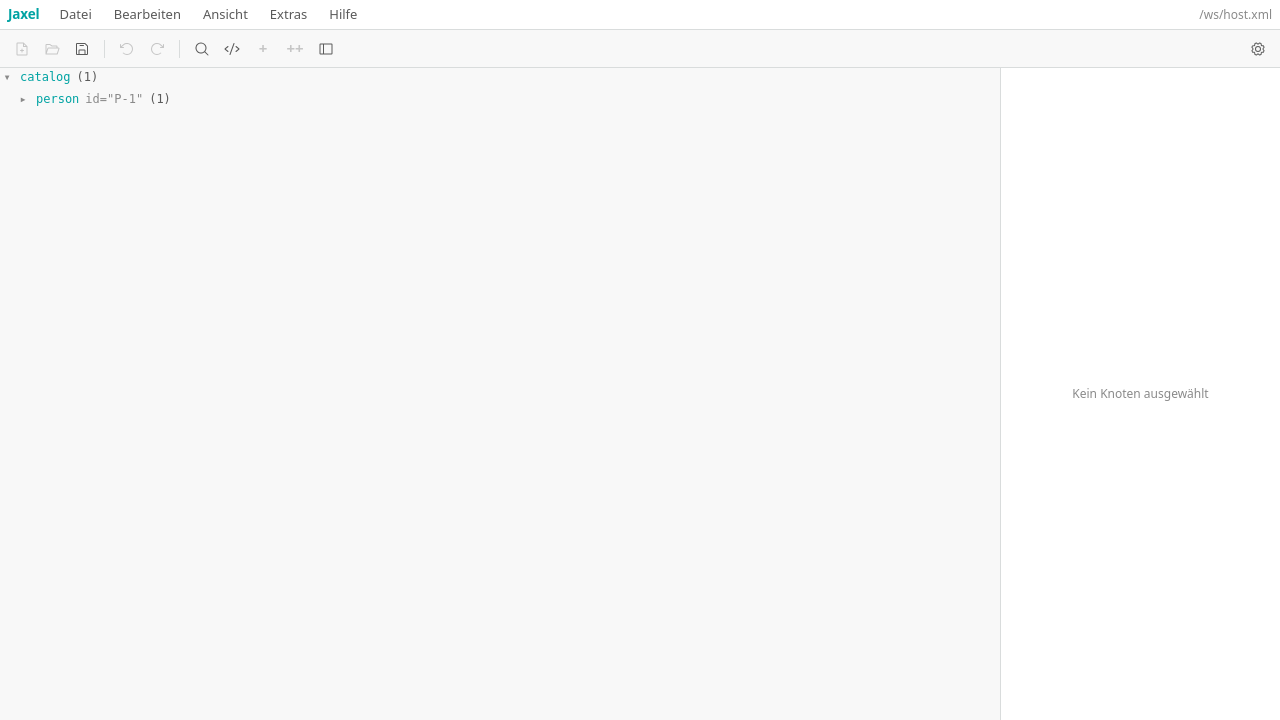
Scenario: VS-Code-Modus: genau ein Dokument › bietet 'Als neuen Tab öffnen' nicht an — ein zweites Dokument ist hier nicht erreichbar
Expected: the text "catalog" is shown, [20,68,71,86]
Click the text "person".
click(58, 99)  # box [36,90,79,108]
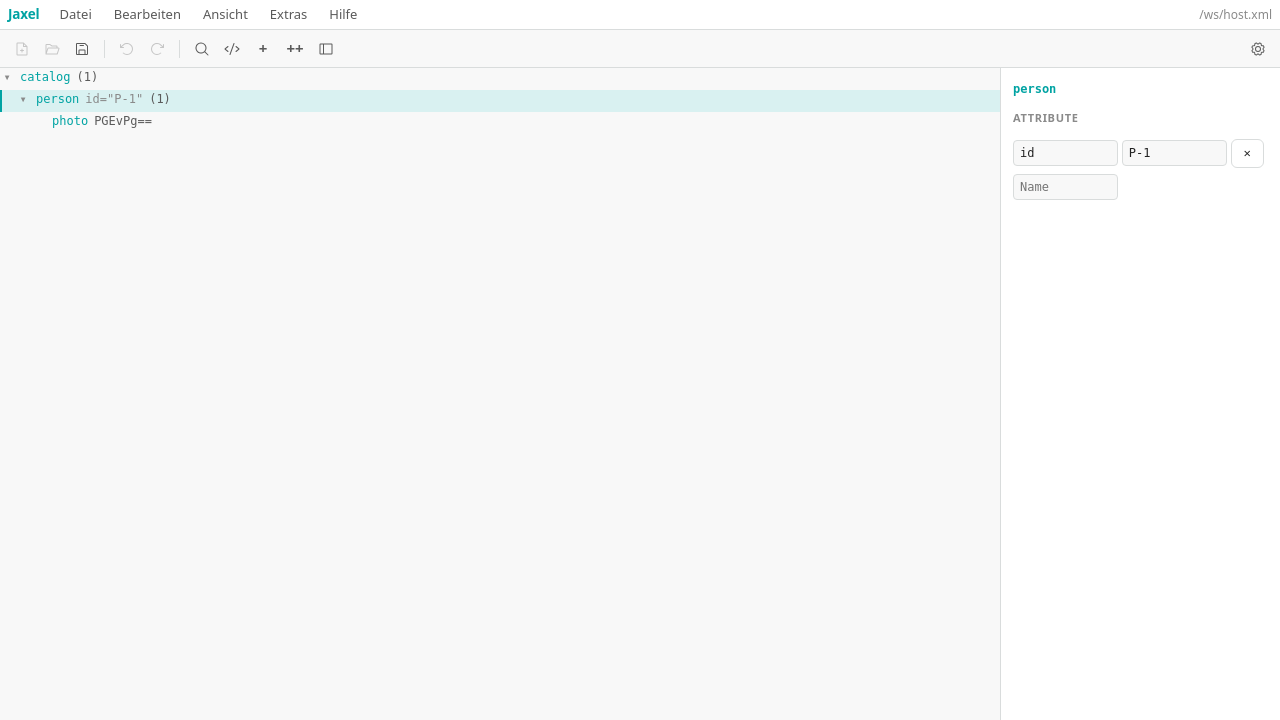
Click the text "photo".
click(102, 121)  # box [52,114,152,128]
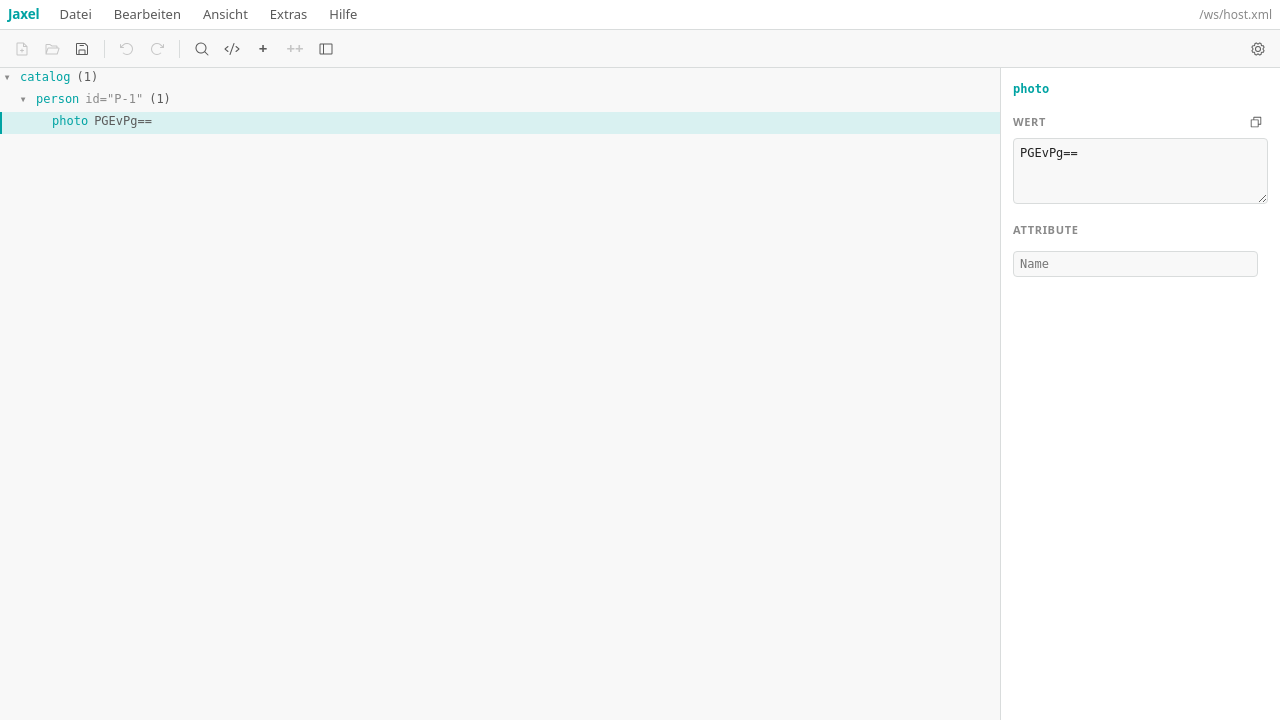
Right-click the text "photo".
right_click(500, 123)  # box [0,112,1000,134]
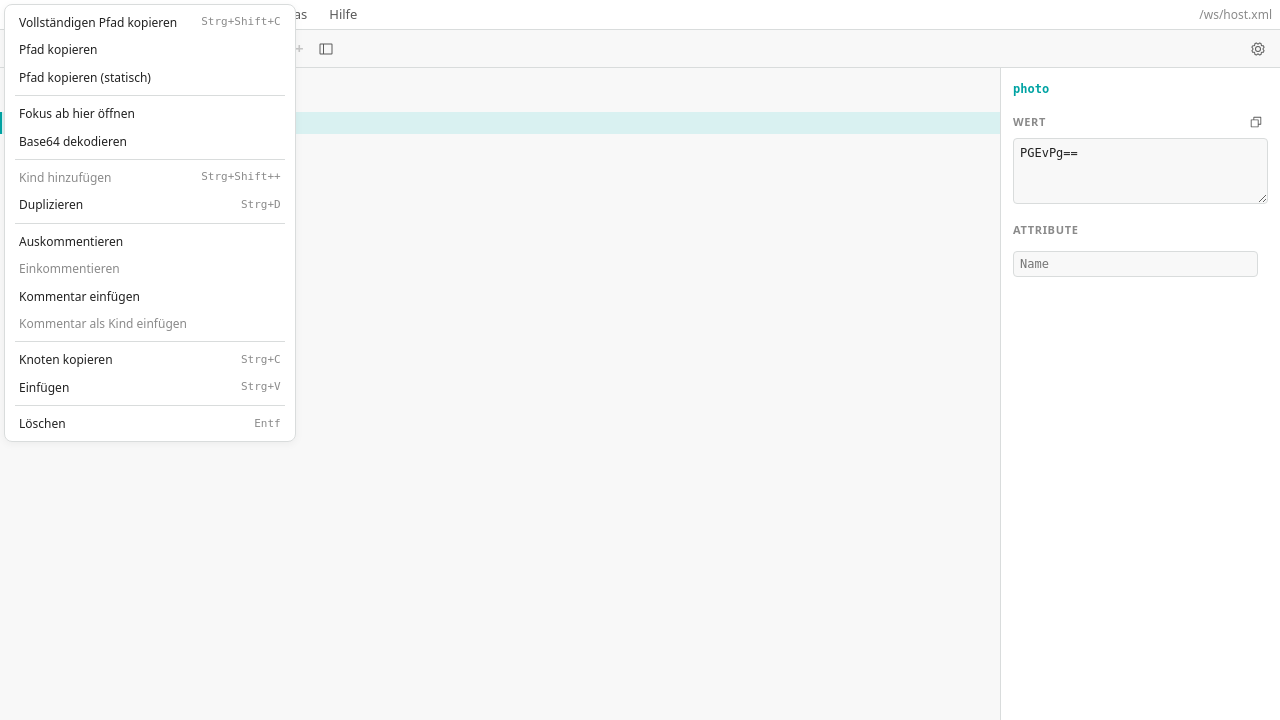
Click the menu item "Base64 dekodieren".
click(73, 141)  # box [9,128,291,155]
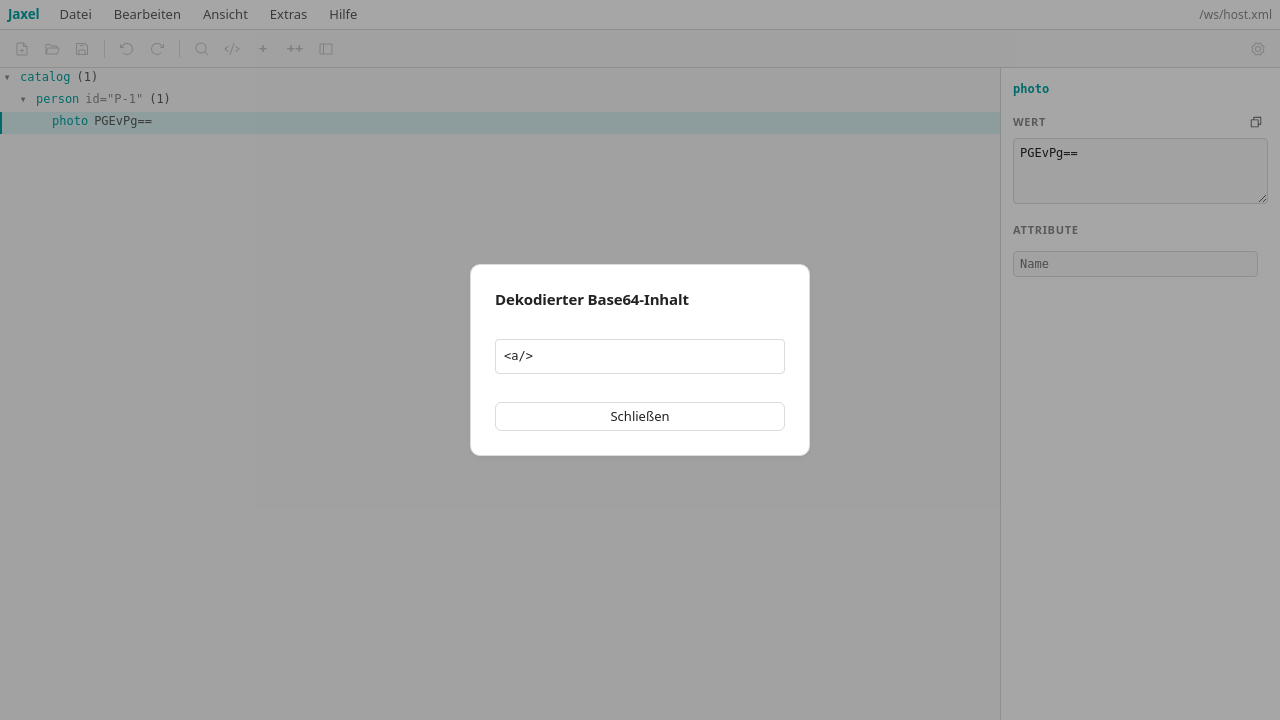
Result: the heading "Dekodierter Base64-Inhalt" is shown at [495,289,689,309]
